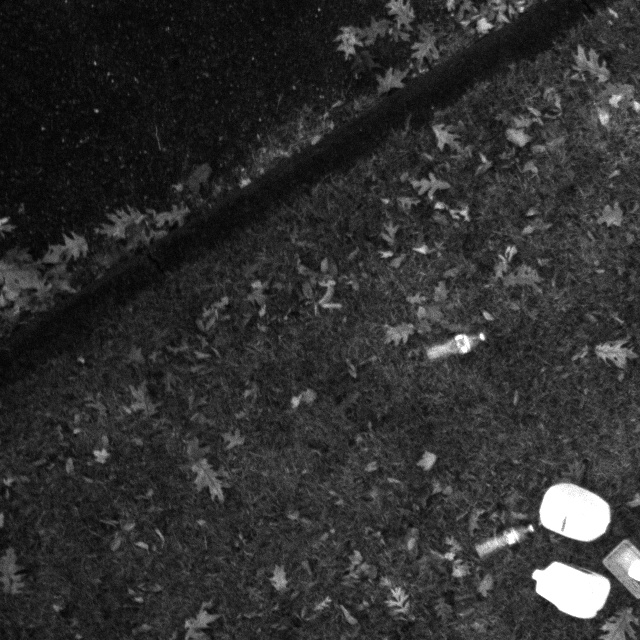bottle: (418, 322, 495, 376), (468, 528, 538, 562)
can: (530, 479, 615, 555), (524, 557, 612, 622)
